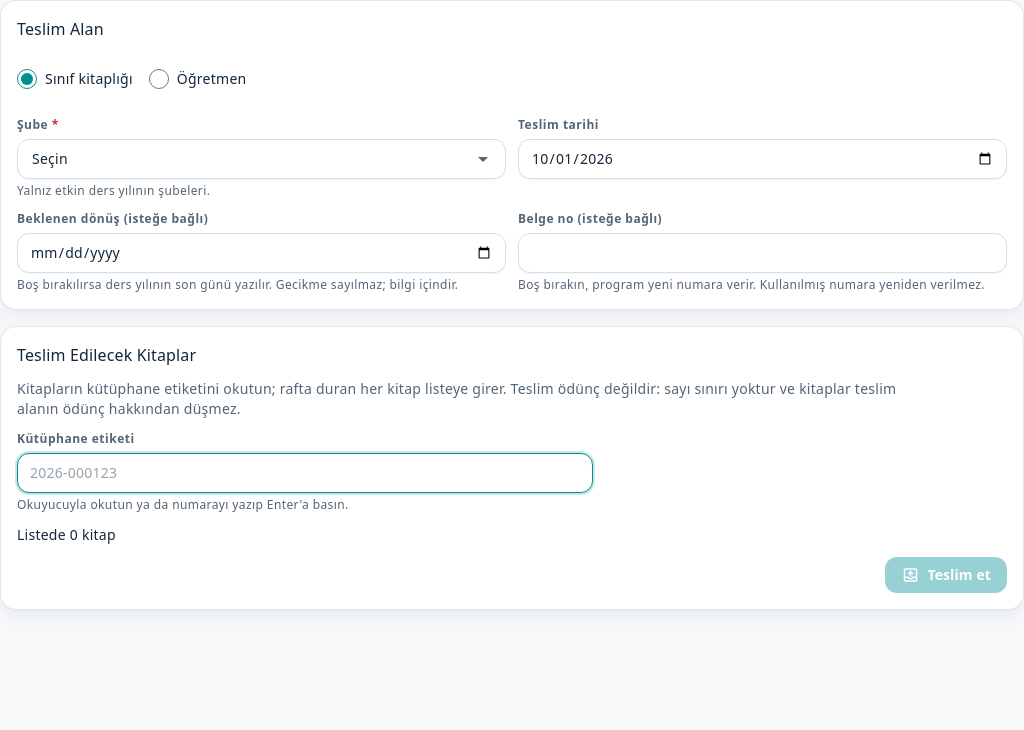
Scenario: YeniTeslim › reddedilen kitap sonraki başarılı okutmada silinmez; listeye girince çıkar
Type "2026000005" into the field labelled "Kütüphane etiketi".
click(305, 473); type("2026000005")  # box [30, 463, 580, 483]
Then press Enter
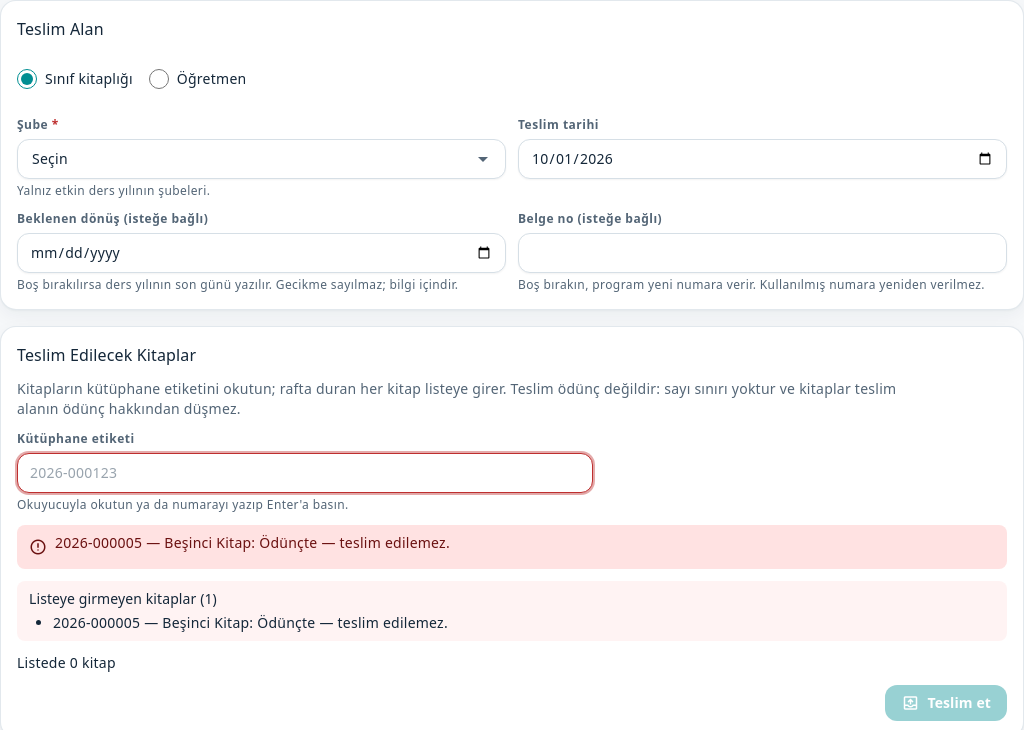
Type "2026000001" into the field labelled "Kütüphane etiketi".
click(305, 473); type("2026000001")  # box [30, 463, 580, 483]
Then press Enter
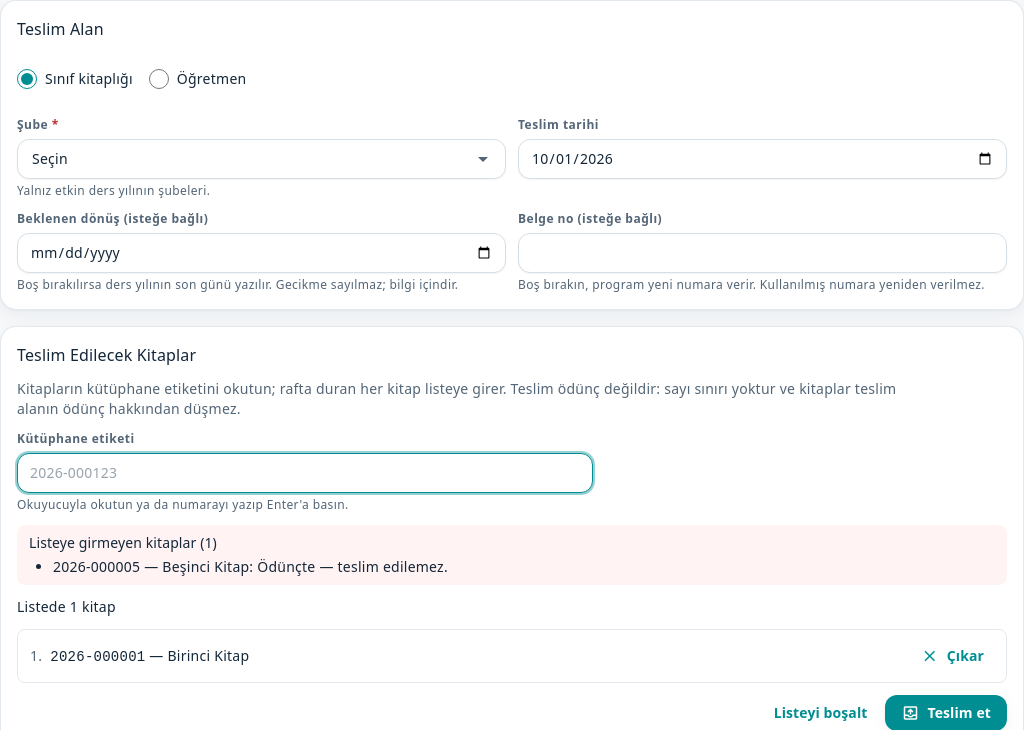
Type "2026000002" into the field labelled "Kütüphane etiketi".
click(305, 473); type("2026000002")  # box [30, 463, 580, 483]
Then press Enter
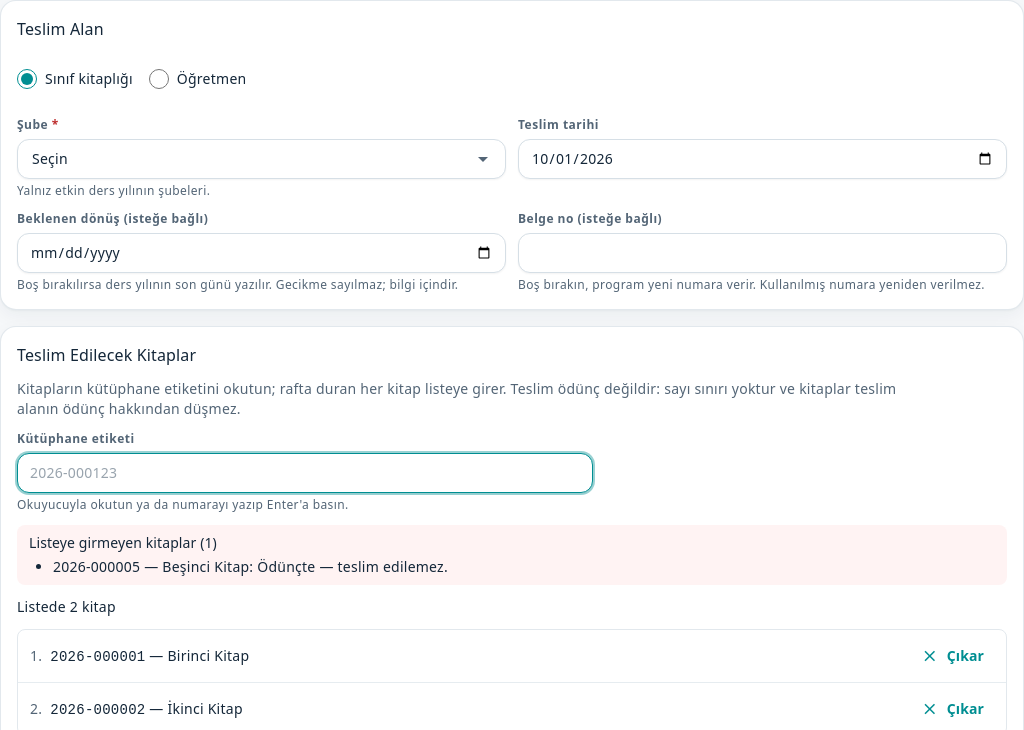
expect the list named "Listeye girmeyen kitaplar" reads "2026-000005 — Beşinci Kitap: Ödünçte — teslim edilemez.": met, box [53, 557, 448, 576]
expect the text "Listede 2 kitap" is shown: met, box [17, 597, 116, 616]
Type "2026000005" into the field labelled "Kütüphane etiketi".
click(305, 473); type("2026000005")  # box [30, 463, 580, 483]
Then press Enter
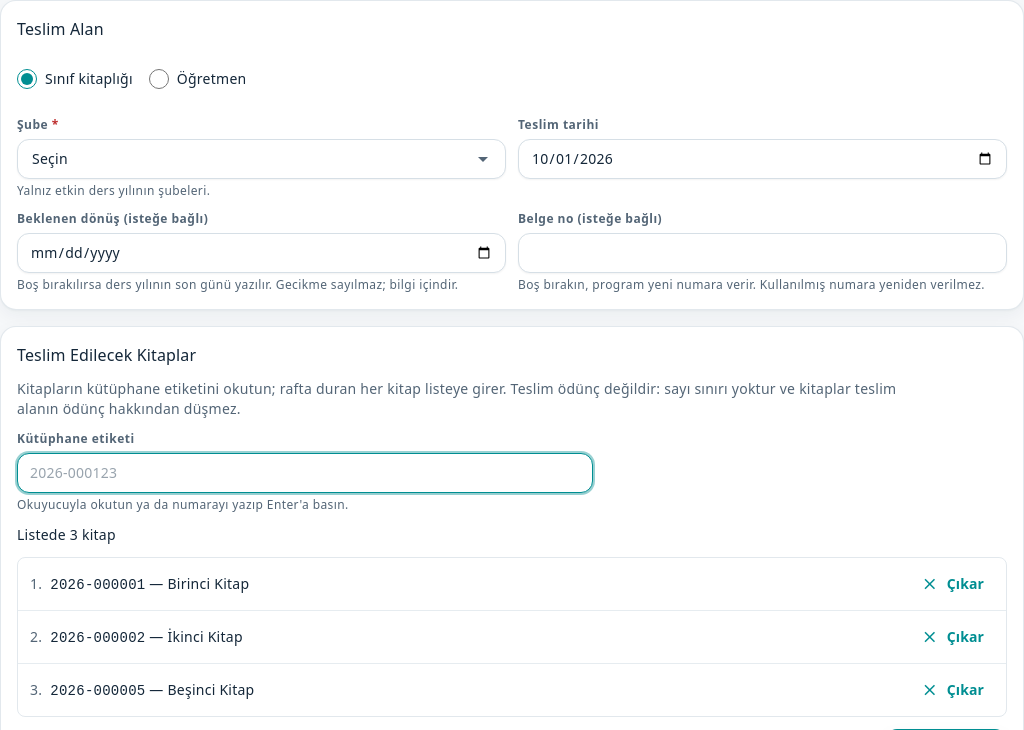
expect the text "Listede 3 kitap" is shown: met, box [17, 525, 116, 544]
expect the text "Listeye girmeyen kitaplar" is gone: met
